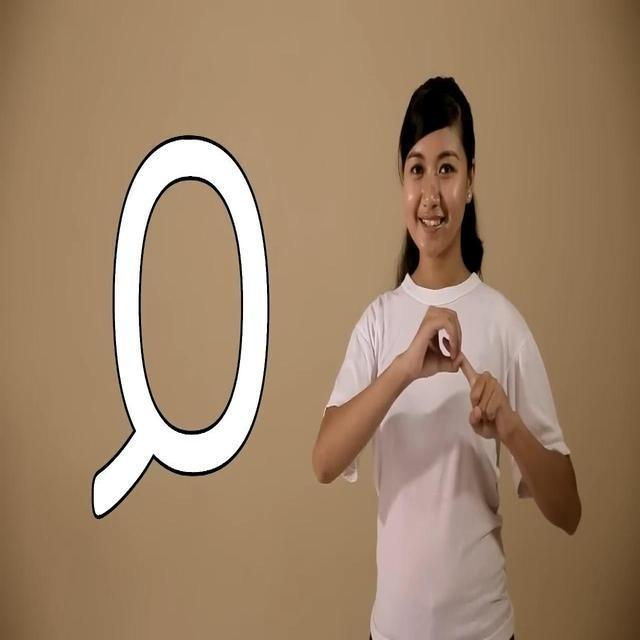Q: (413, 303, 520, 443)
